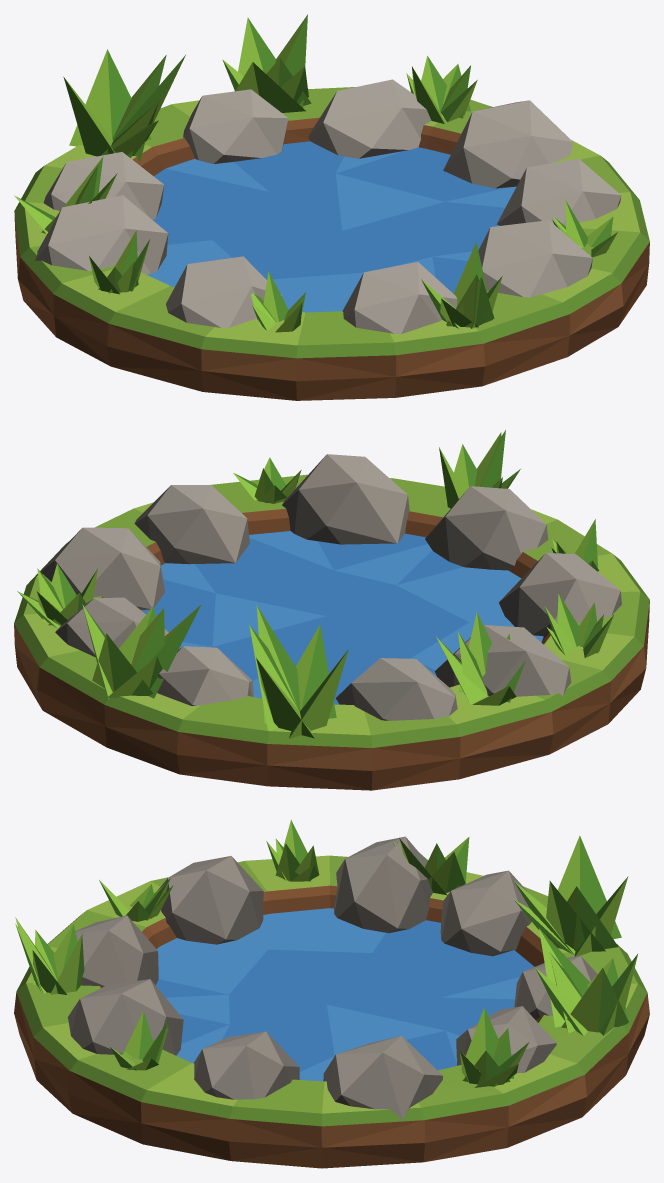
File: FMS_Water_Pond_Round.fbx
The picture shows the model from 3 angles, top to bottom: view 1: azimuth 30°, elevation 25°; view 2: azimuth 150°, elevation 25°; view 3: azimuth 270°, elevation 25°; orthographic projection.
Visible parts, largest first — view 1: FMS_Water_Pond_Round; view 2: FMS_Water_Pond_Round; view 3: FMS_Water_Pond_Round.
Part boxes in pixels (x1,y1,x2,y2): FMS_Water_Pond_Round: (14,14,649,400); FMS_Water_Pond_Round: (14,430,649,790); FMS_Water_Pond_Round: (14,819,649,1168).
Bounding box in the file's own units: 3.94 × 0.9746 × 3.98.
